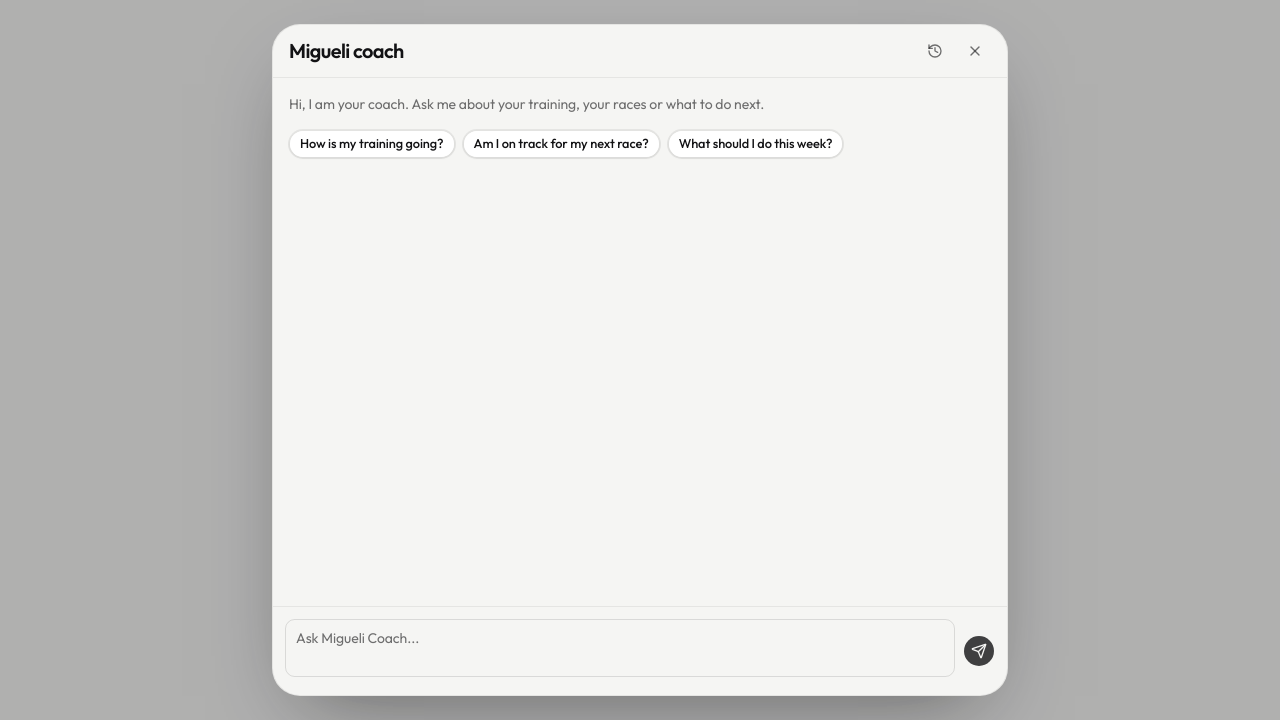
Test: CoachChatView › Enter sends and Shift+Enter does not
The width and height of the screenshot is (1280, 720).
Type "hello" into the text box with test id "coach-input" at (620, 648), box [285,618,955,676]
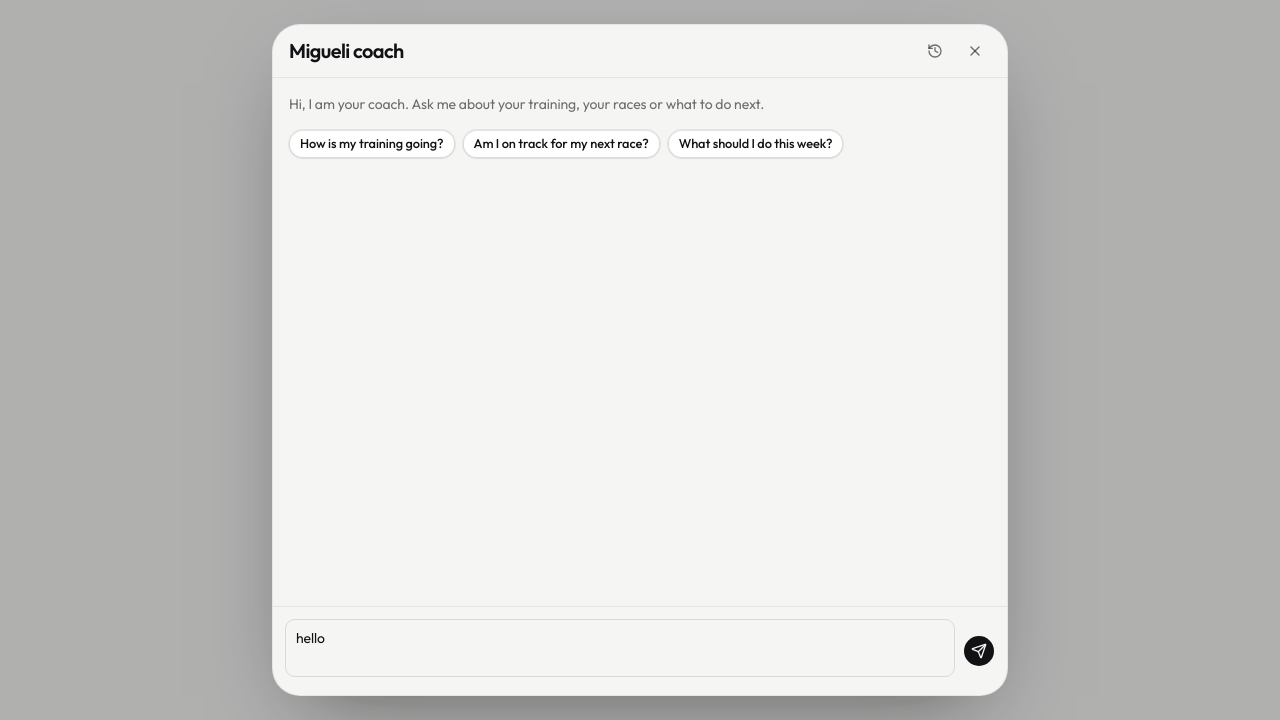
Press Enter in the text box with test id "coach-input", box [285,618,955,676]
Press Enter in the text box with test id "coach-input", box [285,618,955,676]
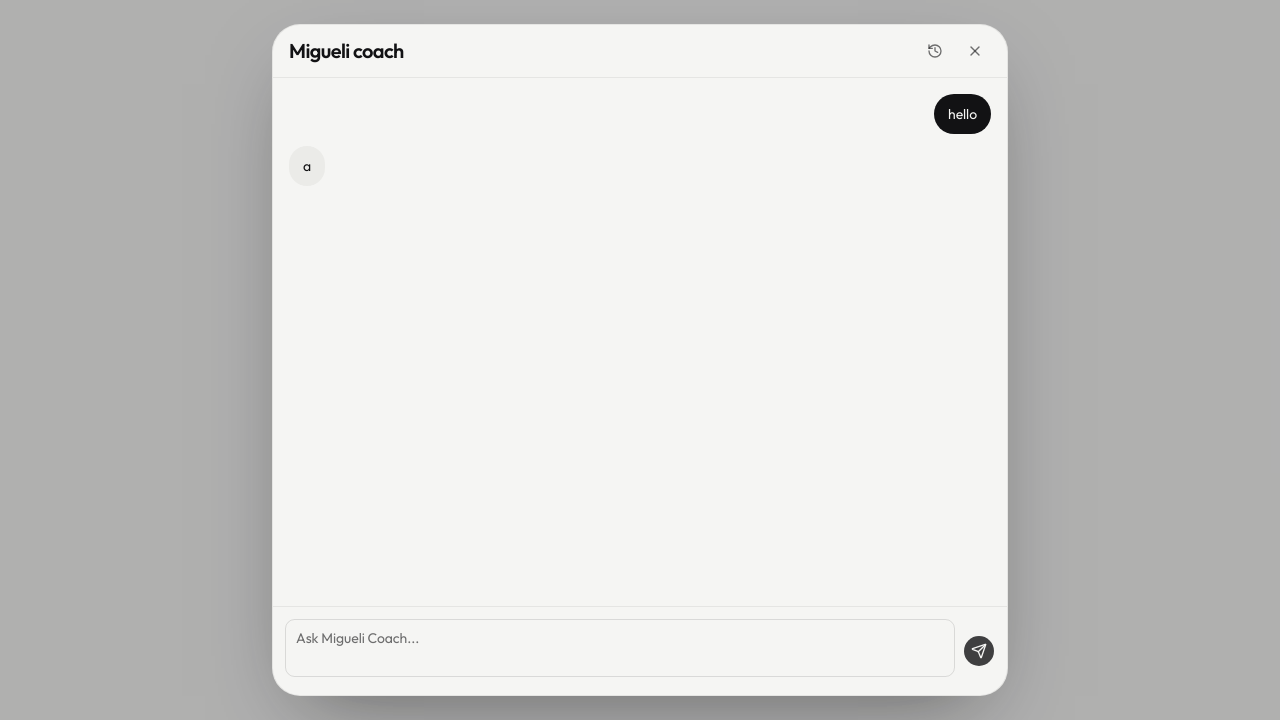
Result: the text box with test id "coach-input" is empty at [285,618,955,676]
